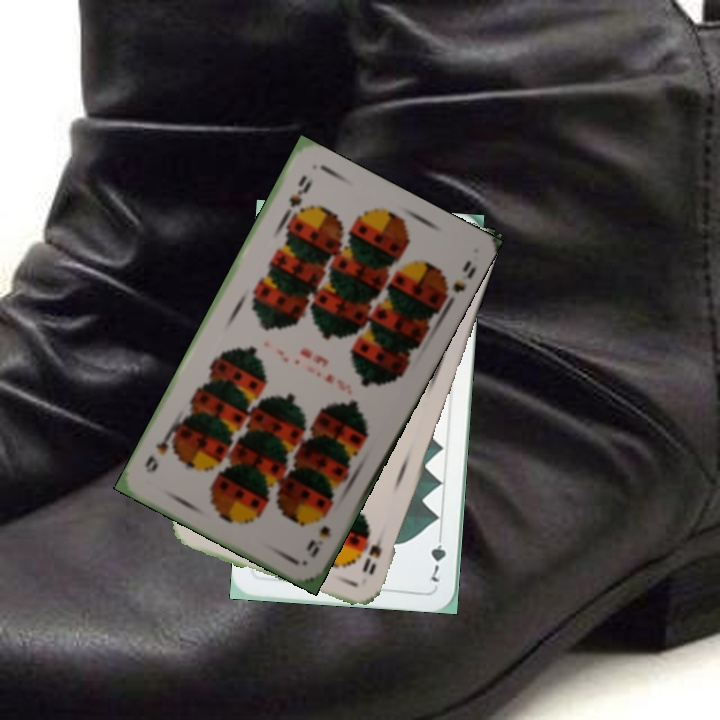G7: (427, 527, 449, 585)
S9: (279, 171, 313, 224), (302, 521, 335, 561)
SO: (358, 524, 389, 578)
